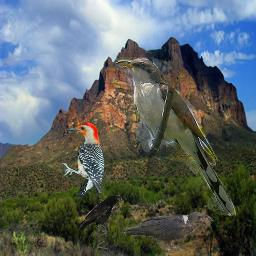Crow: (121, 211, 213, 253), (76, 194, 123, 234)
Cuckoo: (115, 57, 236, 216)
Woodpecker: (62, 122, 106, 197)
